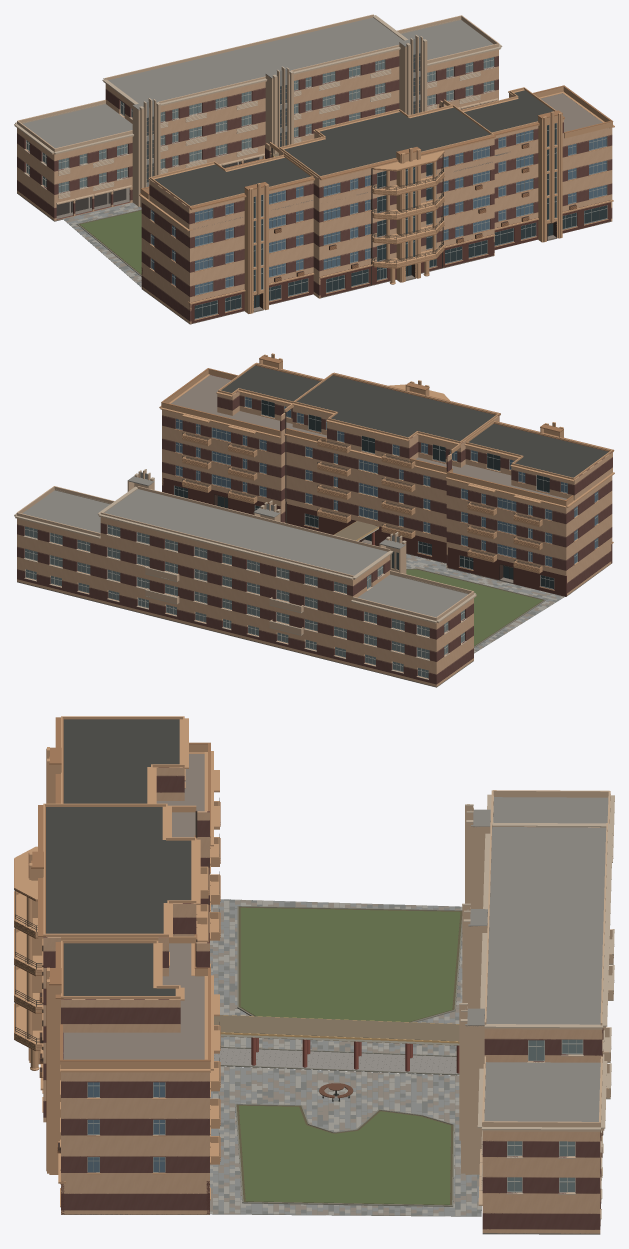
Rendered from xuhui-foncim-apartments-d-e-raw.glb.
The picture shows the model from 3 angles, top to bottom: view 1: azimuth 30°, elevation 25°; view 2: azimuth 150°, elevation 25°; view 3: azimuth 270°, elevation 25°; orthographic projection. The views are drawn at different scales.
Parts seen in each view (by area): view 1: 方建公寓D、E楼与庭院敞廊; view 2: 方建公寓D、E楼与庭院敞廊; view 3: 方建公寓D、E楼与庭院敞廊.
Boxes of the visible parts, x1,y1,x2,y2 form: 方建公寓D、E楼与庭院敞廊: [14, 14, 614, 324]; 方建公寓D、E楼与庭院敞廊: [14, 353, 614, 687]; 方建公寓D、E楼与庭院敞廊: [14, 716, 614, 1234].
Bounding box in the file's own units: 68.65 × 19.24 × 51.33.
40 materials, 1 textured.
